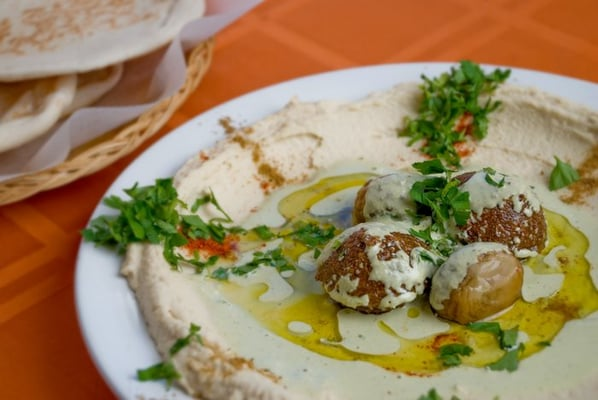soup: (0, 2, 207, 161)
